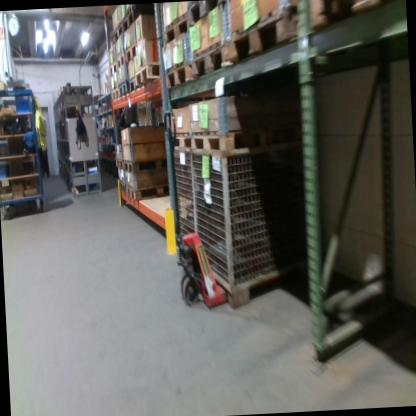pallet: (220, 5, 299, 65), (189, 121, 290, 159), (306, 0, 390, 28), (192, 35, 227, 79), (158, 7, 190, 50), (166, 58, 195, 99), (124, 178, 170, 200), (122, 153, 171, 173), (120, 5, 151, 34), (135, 57, 163, 89), (188, 0, 223, 25), (170, 131, 197, 156), (110, 16, 124, 47), (125, 40, 141, 66), (116, 48, 127, 75), (118, 78, 129, 101), (105, 59, 116, 80), (128, 74, 138, 97), (109, 82, 120, 102), (114, 154, 124, 169), (116, 177, 125, 193)
pallet_truck: (161, 101, 229, 312)
small_load_carrier: (15, 98, 30, 115)
stillage: (188, 139, 314, 312), (166, 140, 196, 244)
